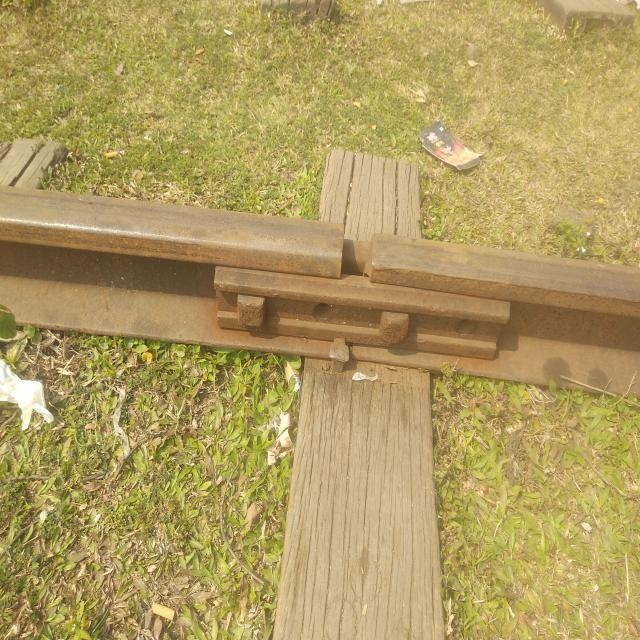obstacle: (314, 220, 396, 285), (444, 307, 483, 351), (301, 290, 336, 323)
